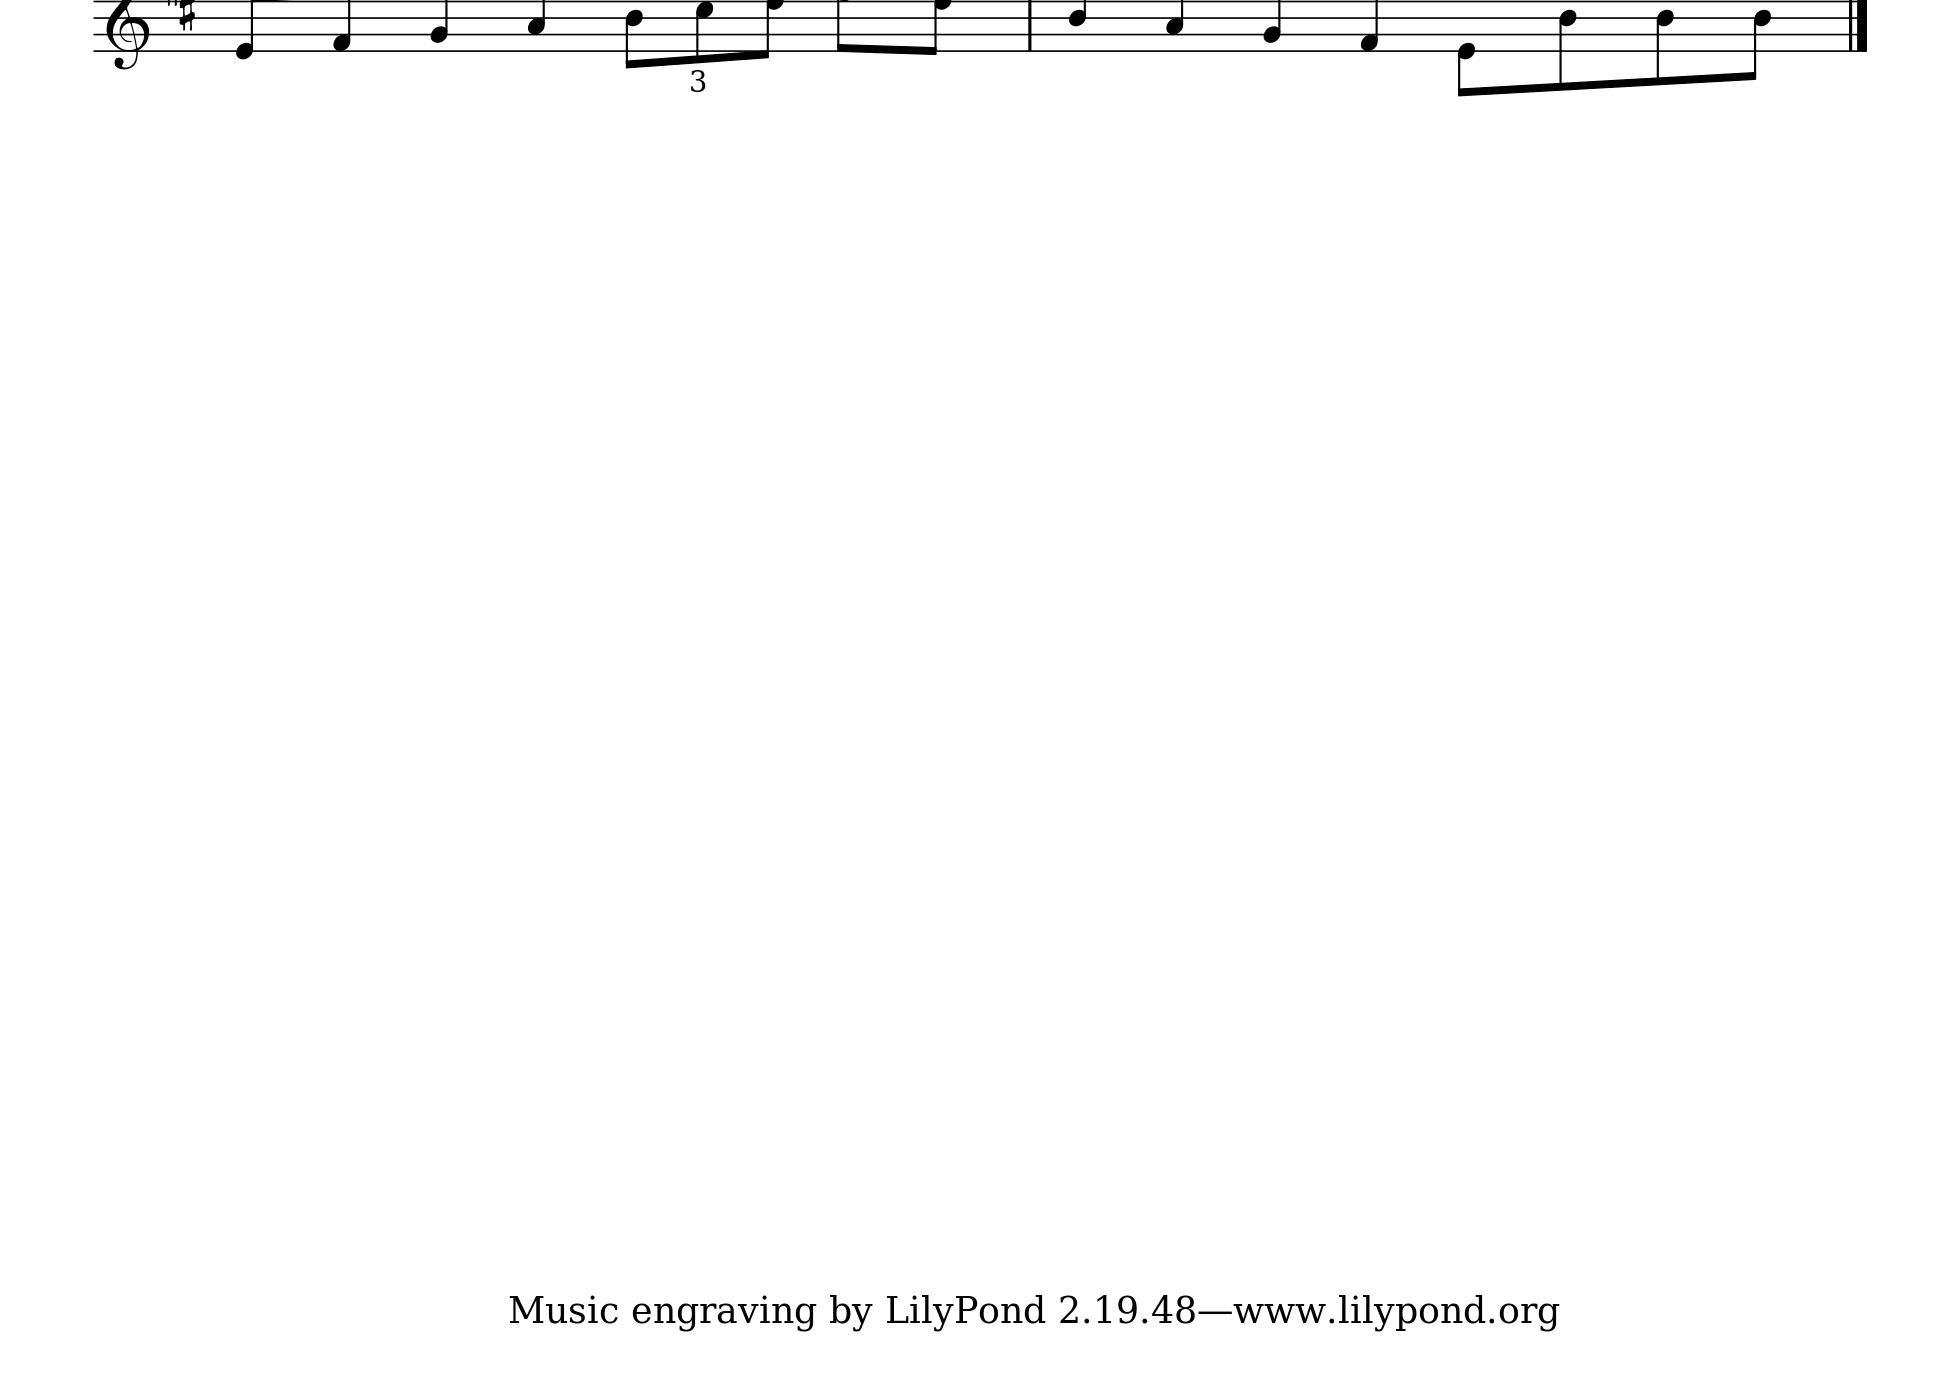3: (685, 67, 709, 94)
Final_barline: (1845, 1, 1870, 52)
